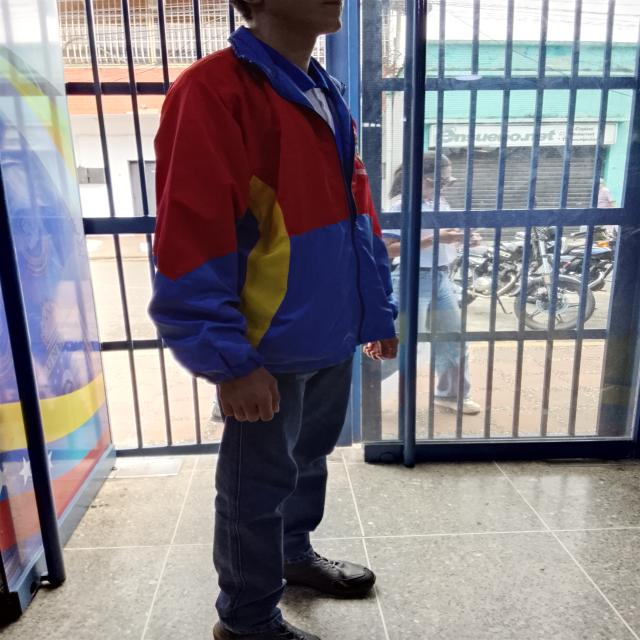chaqueta_unefa: (148, 24, 401, 384)
